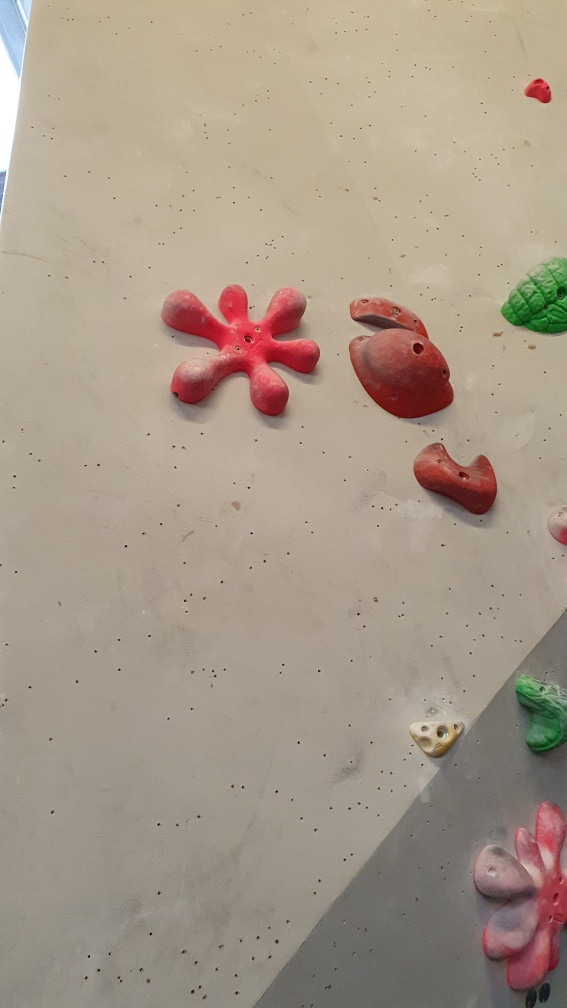Hand Start: (539, 983, 553, 1004), (524, 988, 538, 1007)
Jug: (503, 254, 567, 332)
Octopus Pinch: (161, 278, 323, 419), (476, 803, 566, 992)
Sloper: (361, 328, 457, 414)
